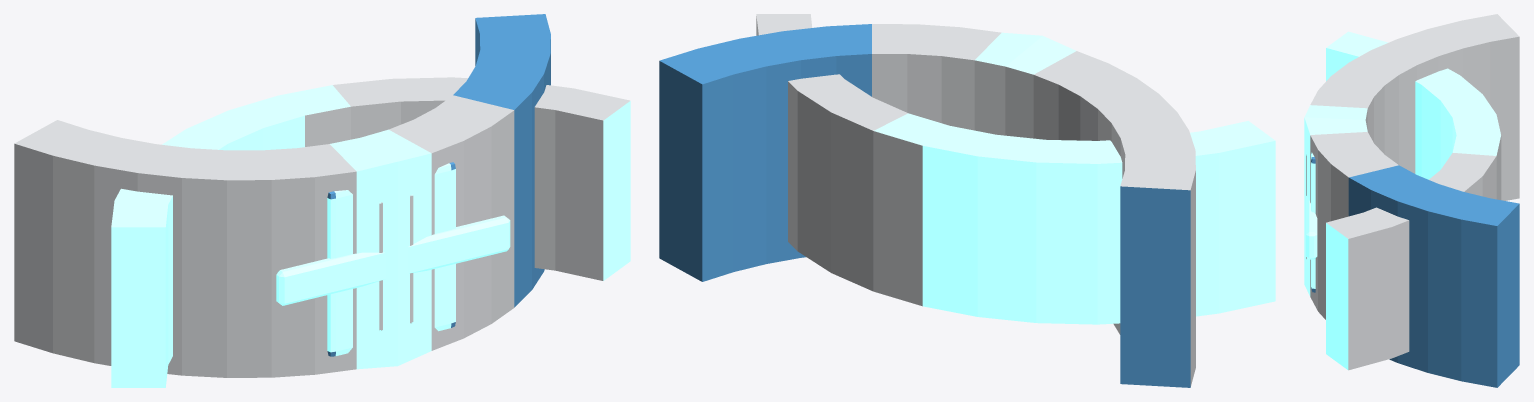
Rendered from waist__sleek.glb.
3 renders of one model, left to right at view 1: azimuth 30°, elevation 25°; view 2: azimuth 150°, elevation 25°; view 3: azimuth 270°, elevation 25°, orthographic. The views are drawn at different scales.
Parts seen in each view (by area): view 1: armor_waist__sleek_v001; view 2: armor_waist__sleek_v001; view 3: armor_waist__sleek_v001.
Boxes of the visible parts, x1=… form: armor_waist__sleek_v001: x1=14, y1=14, x2=630, y2=387; armor_waist__sleek_v001: x1=659, y1=14, x2=1275, y2=387; armor_waist__sleek_v001: x1=1304, y1=14, x2=1519, y2=387.
Bounding box in the file's own units: 0.45 × 0.1655 × 0.1929.
